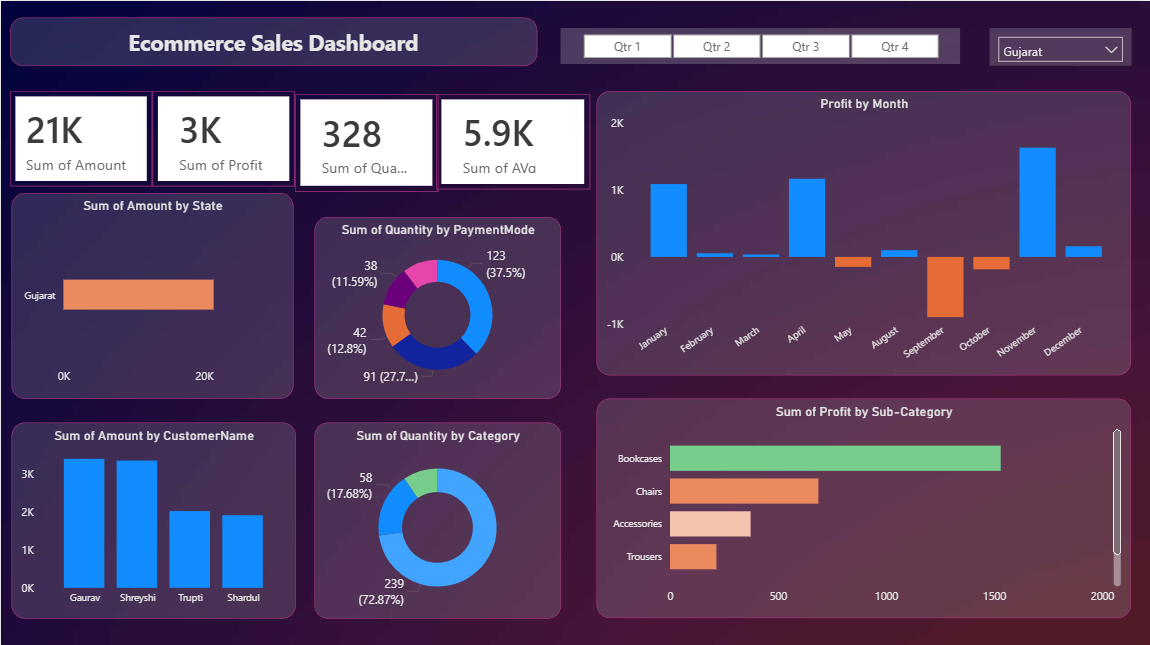

This screenshot's page, from the dashboard's own definition file:
{"tool":"powerbi","page":{"name":"Page 1","canvas":[1280,720],"ordinal":0},"visuals":[{"type":"textbox","box":[10,18,586,54],"z":0},{"type":"columnChart","title":"Profit by Month","fields":{"Category":["Orders.Order Date.Variation.Date Hierarchy.Month"],"Y":["Sum(Details.Profit)"]},"box":[662,100,594,316],"z":1000},{"type":"barChart","fields":{"Category":["Details.Sub-Category"],"Y":["Sum(Details.Profit)"]},"box":[662,442,594,244],"z":2000},{"type":"donutChart","fields":{"Category":["Details.Category"],"Y":["Sum(Details.Quantity)"]},"box":[348,468,274,218],"z":3000},{"type":"donutChart","fields":{"Category":["Details.PaymentMode"],"Y":["Sum(Details.Quantity)"]},"box":[348,240,274,202],"z":4000},{"type":"cardVisual","fields":{"Data":["Sum(Details.Amount)"]},"box":[10,100,158,106],"z":5000},{"type":"cardVisual","fields":{"Data":["Sum(Details.AVg)"]},"box":[483.8,103.8,171.5,106.2],"z":6000},{"type":"cardVisual","fields":{"Data":["Sum(Details.Quantity)"]},"box":[326.2,103.8,159.2,108.5],"z":7000},{"type":"cardVisual","fields":{"Data":["Sum(Details.Profit)"]},"box":[168,100,158,106],"z":8000},{"type":"barChart","fields":{"Category":["Orders.State"],"Y":["Sum(Details.Amount)"]},"box":[11.4,212.9,314.3,240],"z":9000},{"type":"columnChart","fields":{"Y":["Sum(Details.Amount)"],"Category":["Orders.CustomerName"]},"box":[11,468,316,218],"z":10000},{"type":"slicer","fields":{"Values":["Orders.Order Date.Variation.Date Hierarchy.Quarter"]},"box":[622,30,444,40],"z":11000},{"type":"slicer","fields":{"Values":["Orders.State"]},"box":[1098,30,158,42],"z":12000}]}

Visuals, with their boxes in screenshot pixels (x1, y1, x2, y2), scaled from the page's 1280x720 canvas onto the 1150x645 screenshot:
textbox: {"left": 9, "top": 16, "right": 535, "bottom": 64}
"Profit by Month" columnChart: {"left": 595, "top": 90, "right": 1128, "bottom": 373}
barChart - Details.Sub-Category x Sum(Details.Profit): {"left": 595, "top": 396, "right": 1128, "bottom": 615}
donutChart - Details.Category x Sum(Details.Quantity): {"left": 313, "top": 419, "right": 559, "bottom": 615}
donutChart - Details.PaymentMode x Sum(Details.Quantity): {"left": 313, "top": 215, "right": 559, "bottom": 396}
cardVisual - Sum(Details.Amount): {"left": 9, "top": 90, "right": 151, "bottom": 185}
cardVisual - Sum(Details.AVg): {"left": 435, "top": 93, "right": 589, "bottom": 188}
cardVisual - Sum(Details.Quantity): {"left": 293, "top": 93, "right": 436, "bottom": 190}
cardVisual - Sum(Details.Profit): {"left": 151, "top": 90, "right": 293, "bottom": 185}
barChart - Orders.State x Sum(Details.Amount): {"left": 10, "top": 191, "right": 293, "bottom": 406}
columnChart - Sum(Details.Amount) x Orders.CustomerName: {"left": 10, "top": 419, "right": 294, "bottom": 615}
slicer - Orders.Order Date.Variation.Date Hierarchy.Quarter: {"left": 559, "top": 27, "right": 958, "bottom": 63}
slicer - Orders.State: {"left": 986, "top": 27, "right": 1128, "bottom": 64}
